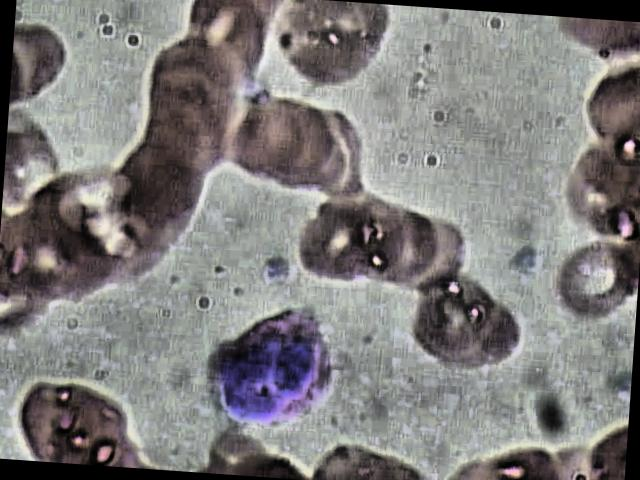Platelets: (511, 244, 543, 276), (260, 253, 292, 284)
RBC: (263, 0, 407, 100), (402, 272, 526, 374), (8, 368, 133, 466), (292, 194, 389, 296), (547, 236, 640, 336), (111, 143, 212, 235), (546, 149, 640, 241), (179, 0, 272, 90), (226, 100, 316, 192), (362, 208, 446, 288), (569, 60, 640, 151)
WBC: (198, 295, 348, 433)
